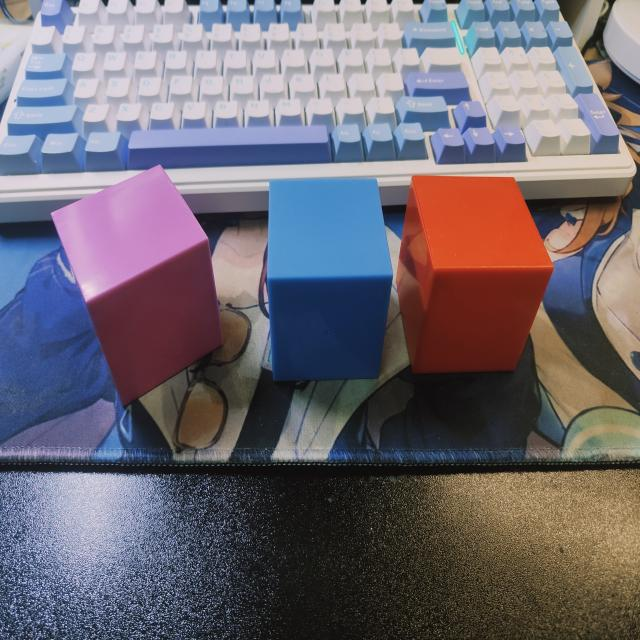blue: (263, 170, 394, 385)
pink: (50, 166, 224, 408)
red: (395, 174, 555, 381)
